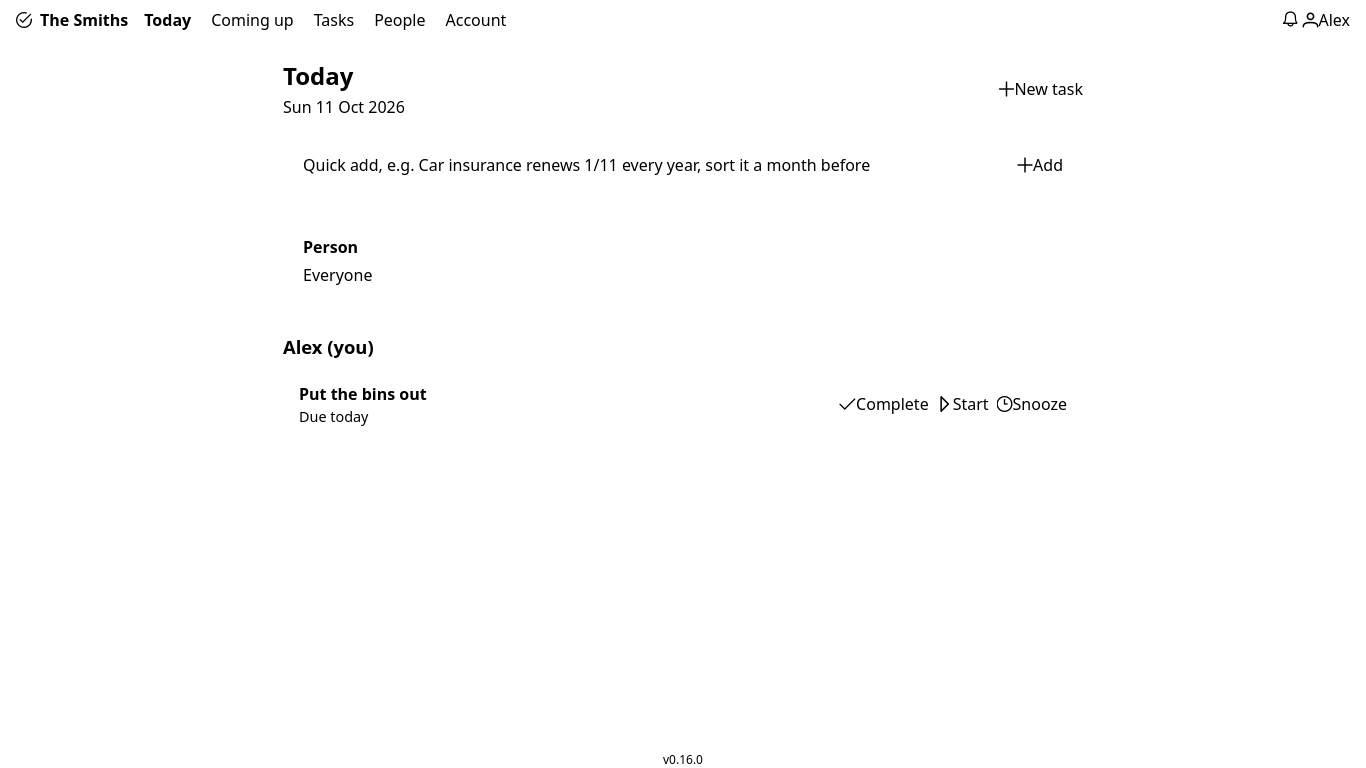
Test: Today › shows the error when an action fails, and still refreshes
The image size is (1366, 768).
Click the button "Complete" at (884,404), box x1=839 y1=393 x2=929 y2=415
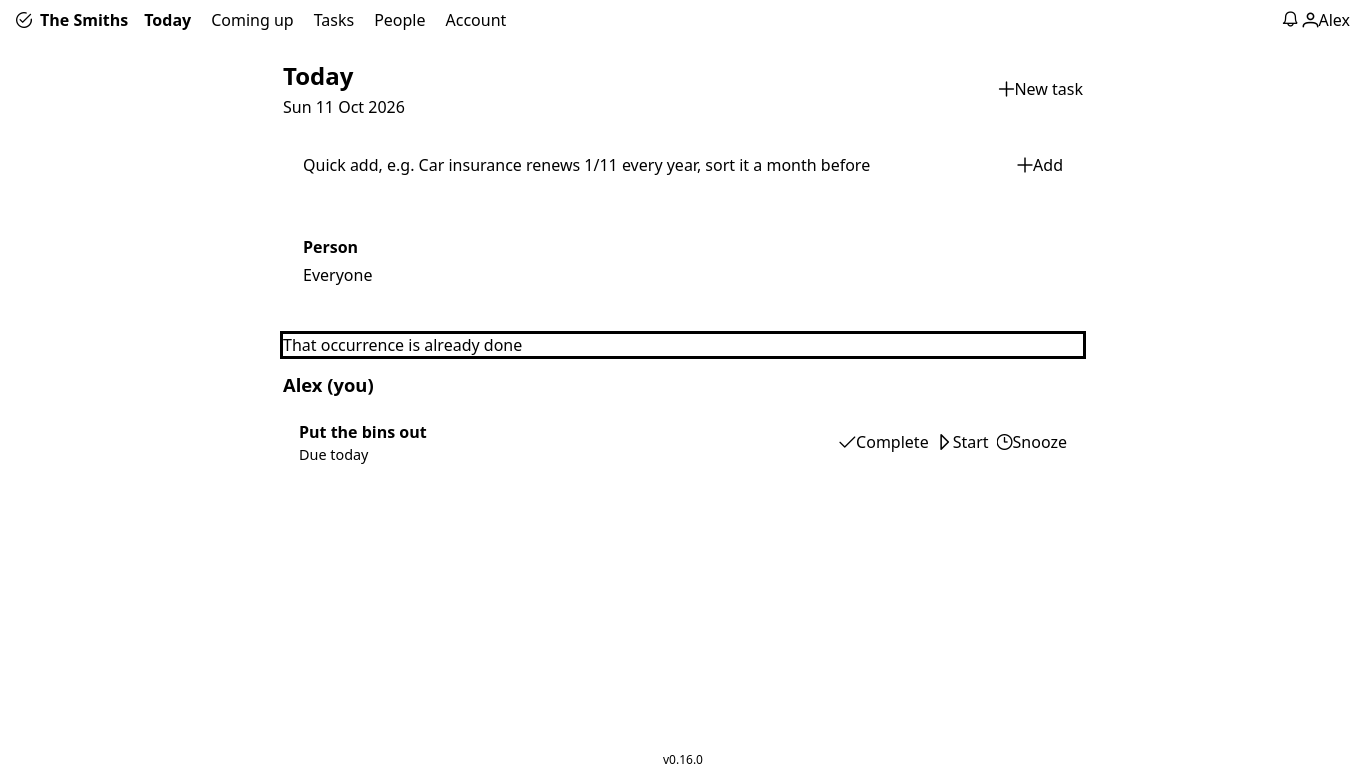
Check: the button "Complete" is enabled, box x1=839 y1=431 x2=929 y2=453
Check: the message "That occurrence is already done" is shown, box x1=283 y1=334 x2=522 y2=356
